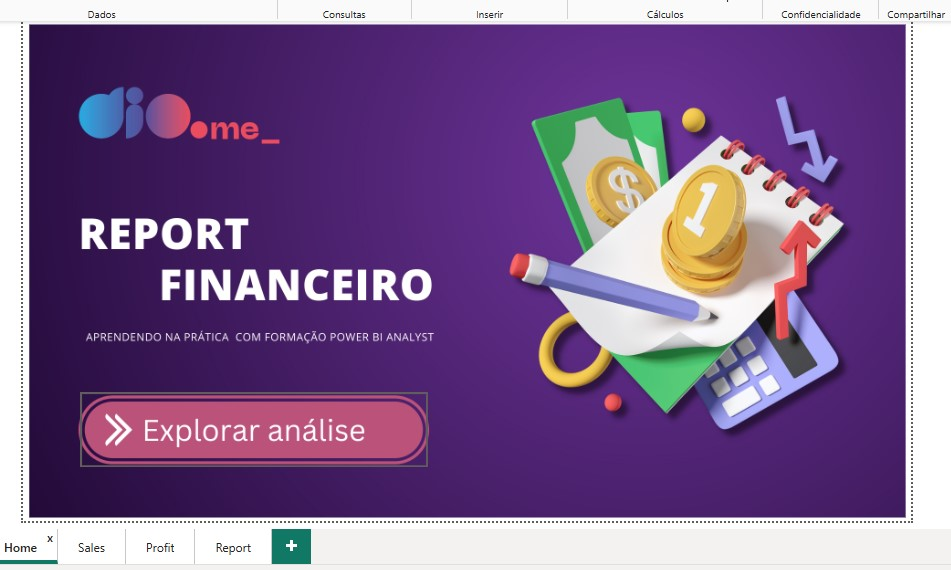

The dashboard page shown, as its layout file describes it:
{"tool":"powerbi","page":{"name":"Home","canvas":[1280,720],"ordinal":0},"visuals":[{"type":"image","box":[0,0,1279.9,720],"z":0},{"type":"actionButton","box":[82.4,534.2,501.3,108.5],"z":1000}]}

Visuals, with their boxes on the page's 1280x720 design canvas (x1, y1, x2, y2). These are canvas units, not pixel positions in the 951x570 screenshot, which may show the page scaled, cropped or inside an application window:
image: bbox=(0, 0, 1280, 720)
actionButton: bbox=(82, 534, 584, 643)
